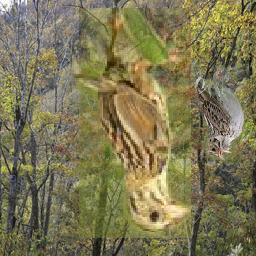Sparrow: (71, 8, 192, 238), (192, 56, 245, 160)
